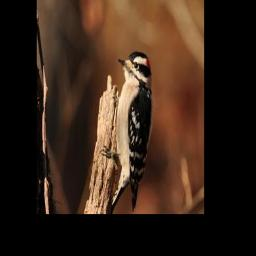Woodpecker: (100, 46, 153, 211)
